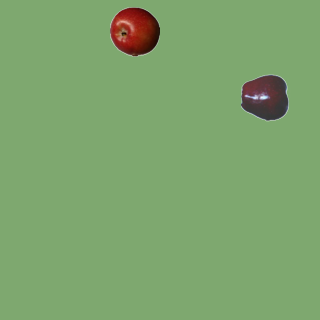Apple Braeburn: (109, 6, 159, 56)
Apple Red Delicious: (240, 72, 290, 122)
